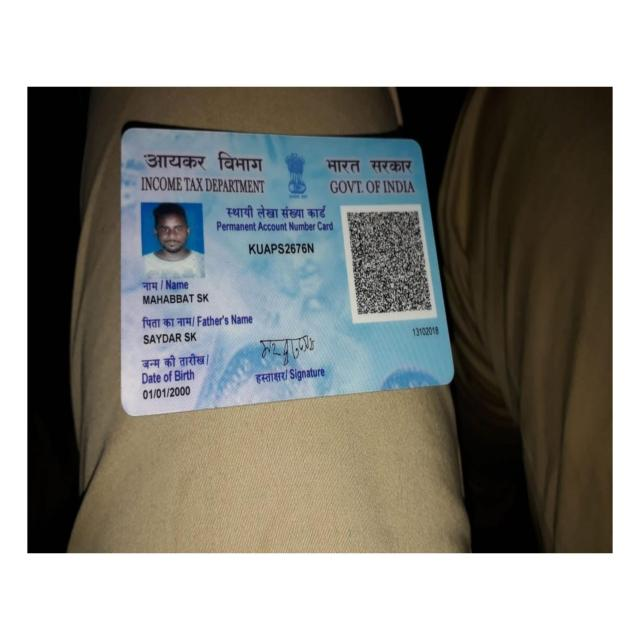pan_card: (124, 128, 449, 419)
